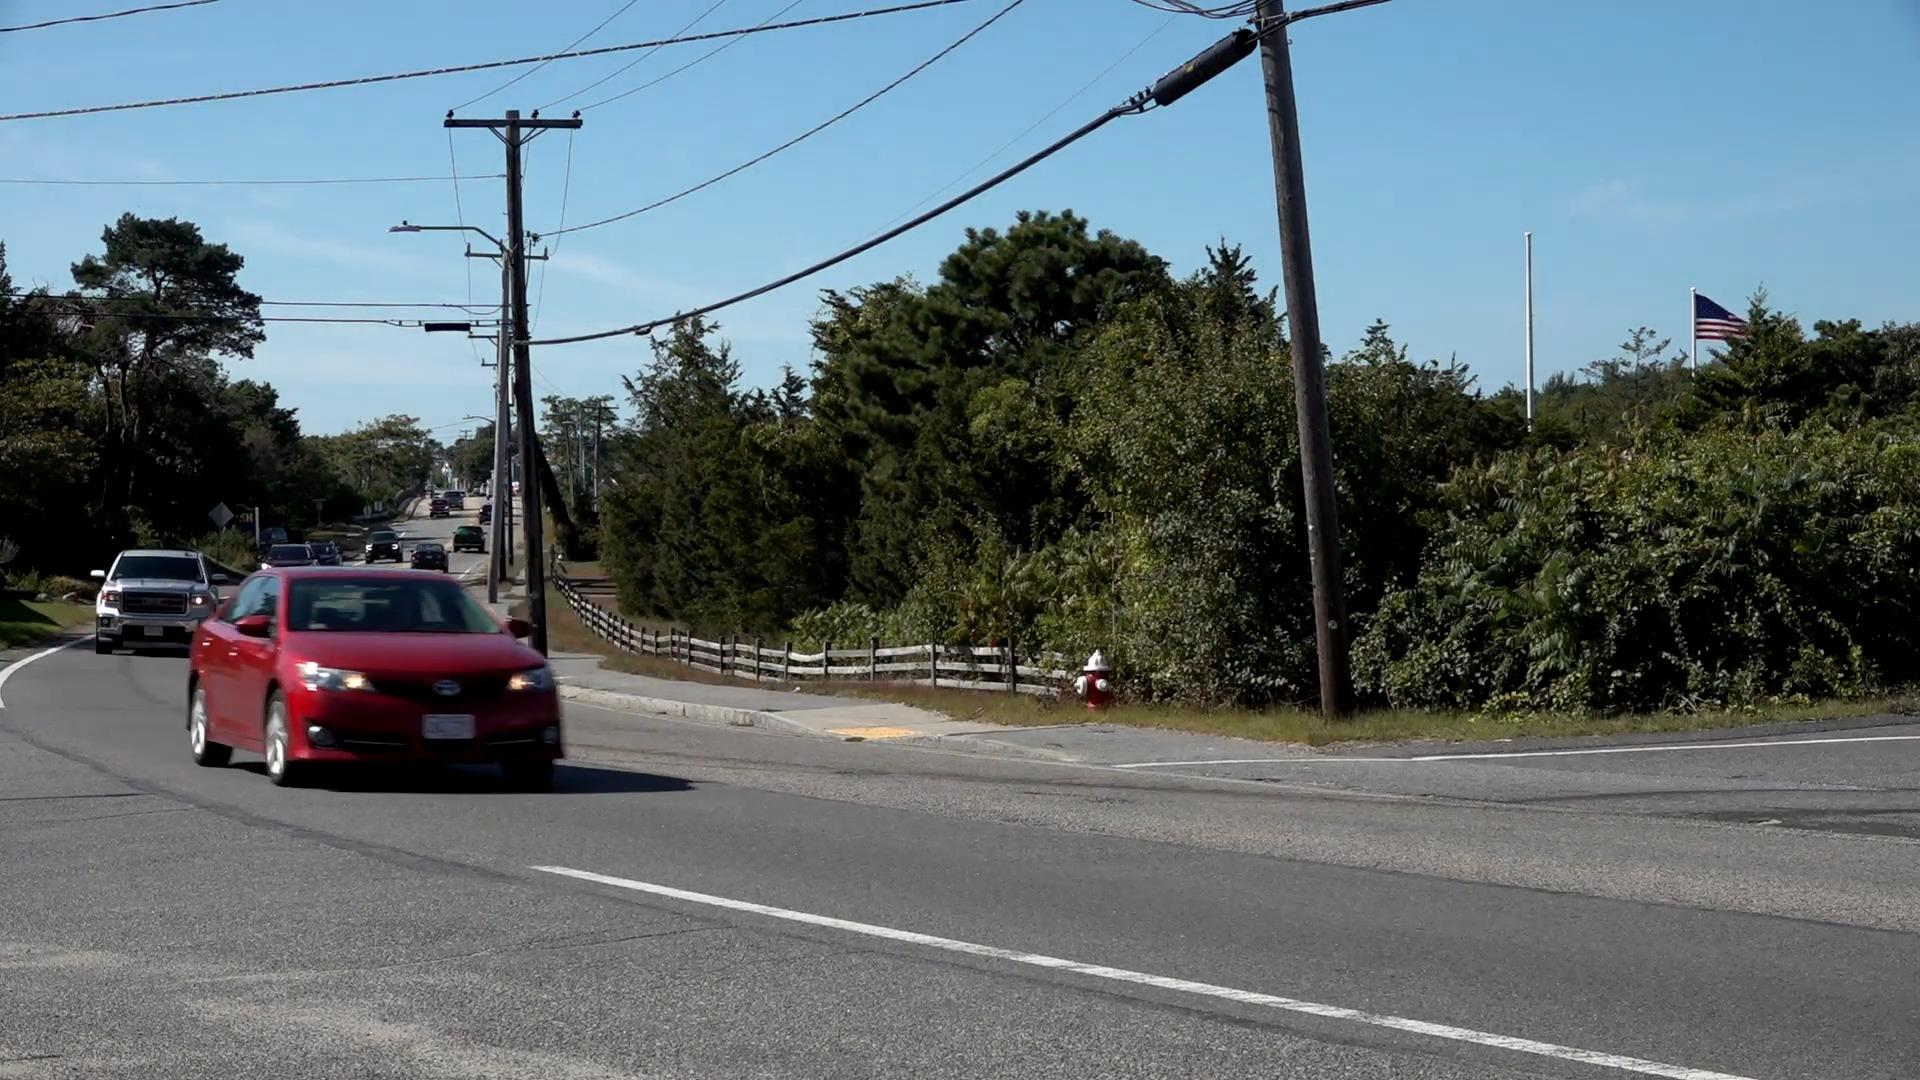pickup: (96, 547, 216, 658)
sedans: (194, 567, 571, 789)
